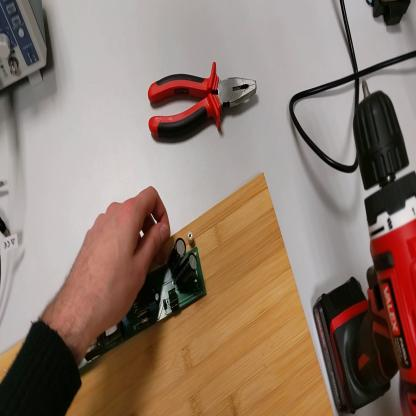electric screwdriver: (313, 81, 416, 416)
hand: (65, 185, 171, 339)
high voltage board: (79, 233, 207, 370)
oscilloscope: (2, 3, 53, 84)
pliers: (146, 62, 262, 141)
welder base: (371, 1, 412, 31)
working area: (2, 155, 332, 416)
